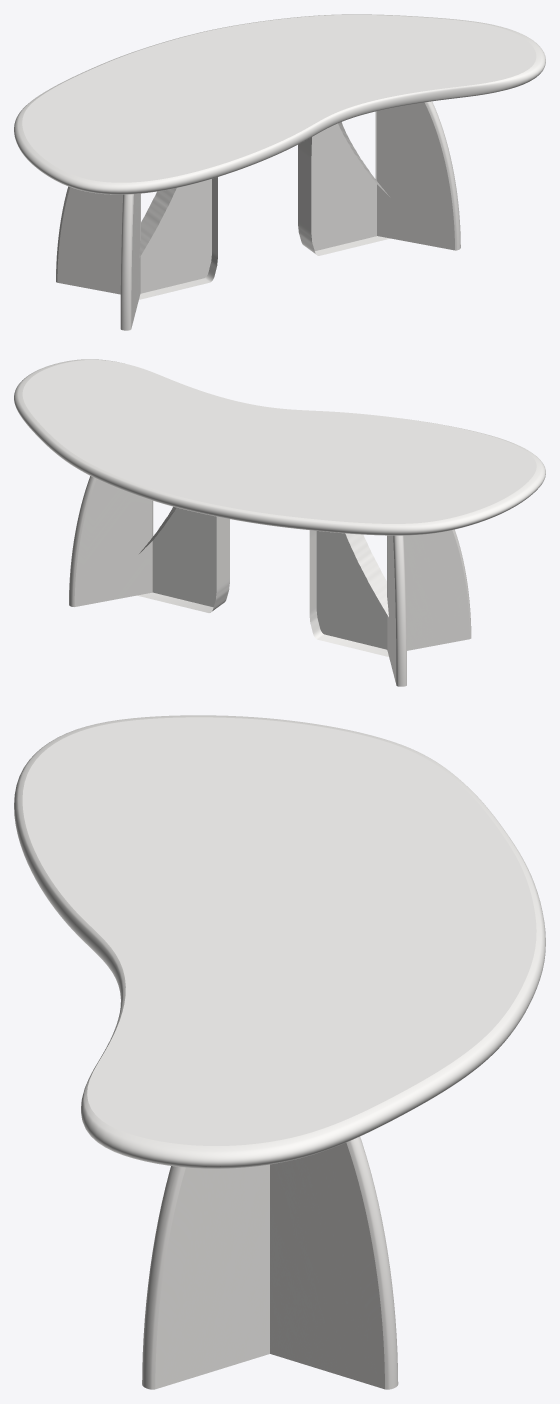
File: purewhite_leaf1_round_plane.glb
The picture shows the model from 3 angles, top to bottom: view 1: azimuth 30°, elevation 25°; view 2: azimuth 150°, elevation 25°; view 3: azimuth 270°, elevation 25°; orthographic projection. The views are drawn at different scales.
Visible parts, largest first — view 1: round_leaf1, plane_singleright2, plane_single2, plane_single1, plane_singleleft1, plane_singleright1; view 2: round_leaf1, plane_singleleft2, plane_single1, plane_single2, plane_singleright1, plane_singleleft1; view 3: round_leaf1, plane_singleleft2, plane_singleright2.
Part boxes in pixels (x1,y1,x2,y2): round_leaf1: [14, 14, 545, 194]; plane_singleright2: [375, 101, 460, 250]; plane_single2: [298, 122, 389, 255]; plane_single1: [139, 177, 217, 299]; plane_singleleft1: [56, 186, 140, 294]; plane_singleright1: [120, 193, 140, 330]; round_leaf1: [14, 359, 545, 535]; plane_singleleft2: [69, 476, 153, 606]; plane_single1: [309, 530, 388, 656]; plane_single2: [137, 506, 229, 612]; plane_singleright1: [387, 529, 471, 650]; plane_singleleft1: [387, 535, 406, 686]; round_leaf1: [14, 715, 545, 1168]; plane_singleleft2: [270, 1136, 398, 1389]; plane_singleright2: [142, 1164, 269, 1389].
Size of the model in its own units: 7.5 by 2.5 by 3.8.
Materials: 1 (1 with a texture image).
